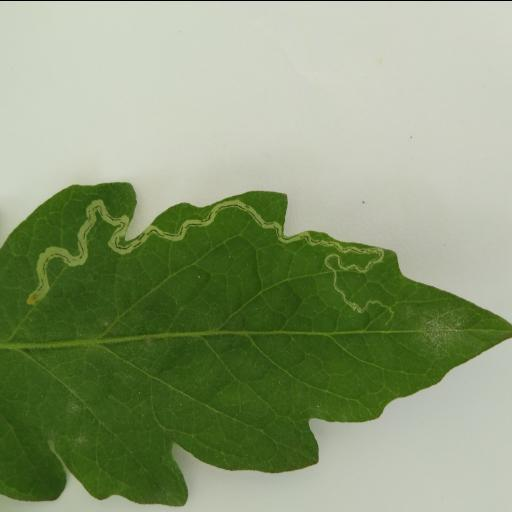disease_tomato: (0, 176, 512, 506)
